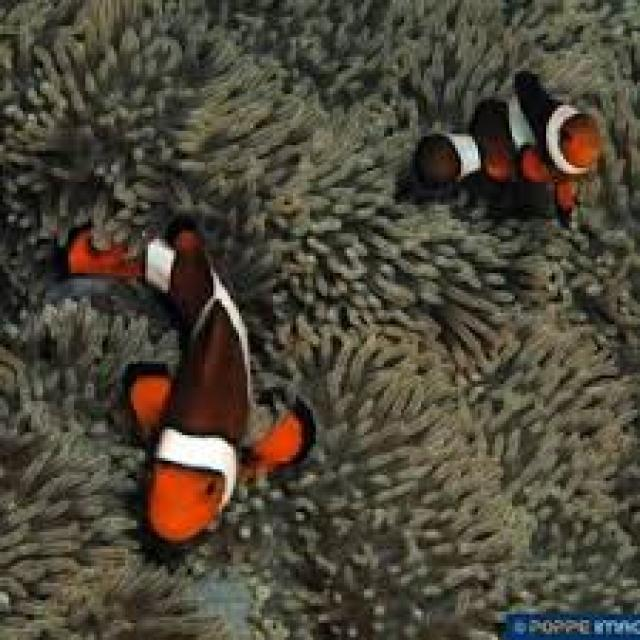ClownFish: (62, 214, 312, 542), (415, 66, 599, 209)
